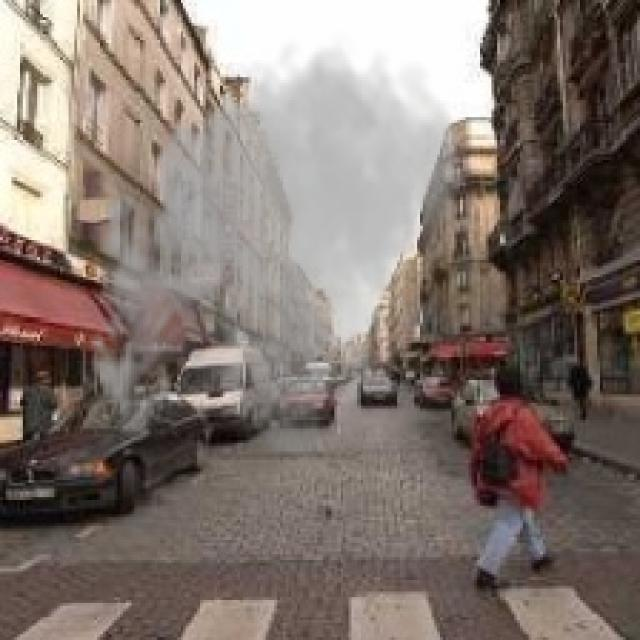Smoke: (77, 32, 472, 457)
